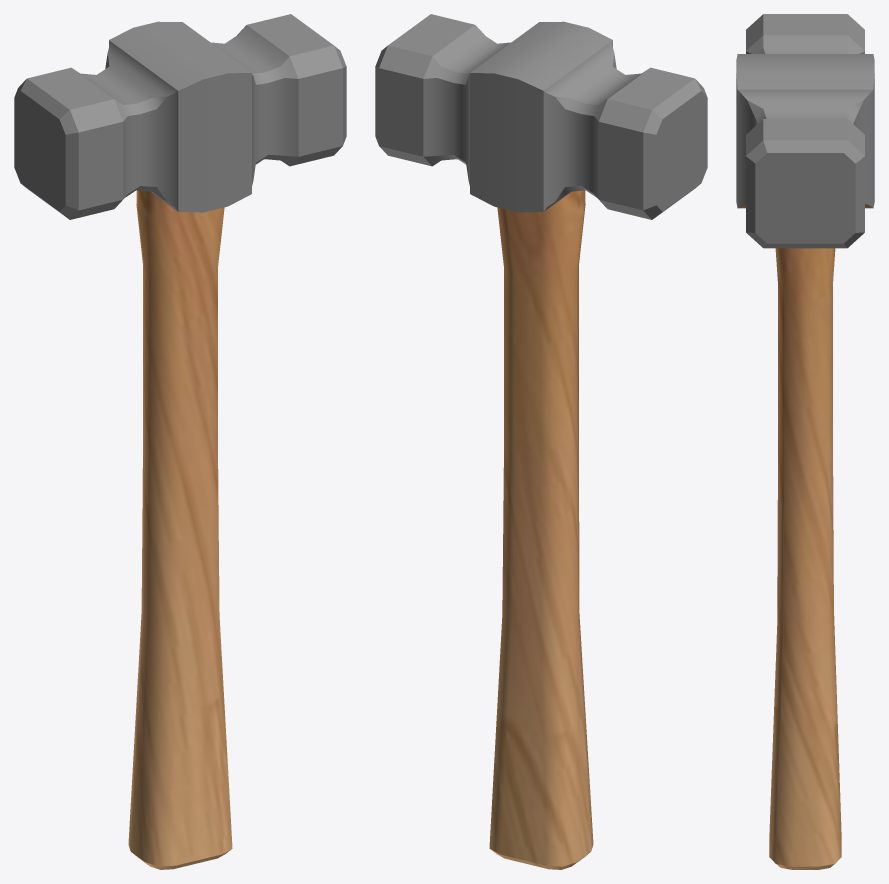
Rendered from Cemkic.fbx.
The picture shows the model from 3 angles, left to right: view 1: azimuth 30°, elevation 25°; view 2: azimuth 150°, elevation 25°; view 3: azimuth 270°, elevation 25°; orthographic projection. The views are drawn at different scales.
Parts seen in each view (by area): view 1: hammer; view 2: hammer; view 3: hammer.
Part boxes in pixels (bbox=[...]): hammer: bbox=[14, 14, 346, 869]; hammer: bbox=[375, 14, 707, 869]; hammer: bbox=[736, 14, 874, 869].
Bounding box in the file's own units: 18.37 × 50.12 × 7.98.
2 materials, 1 textured.
